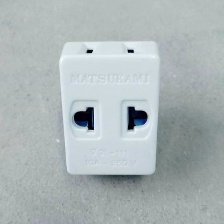three_eye_plug: (55, 34, 163, 183)
